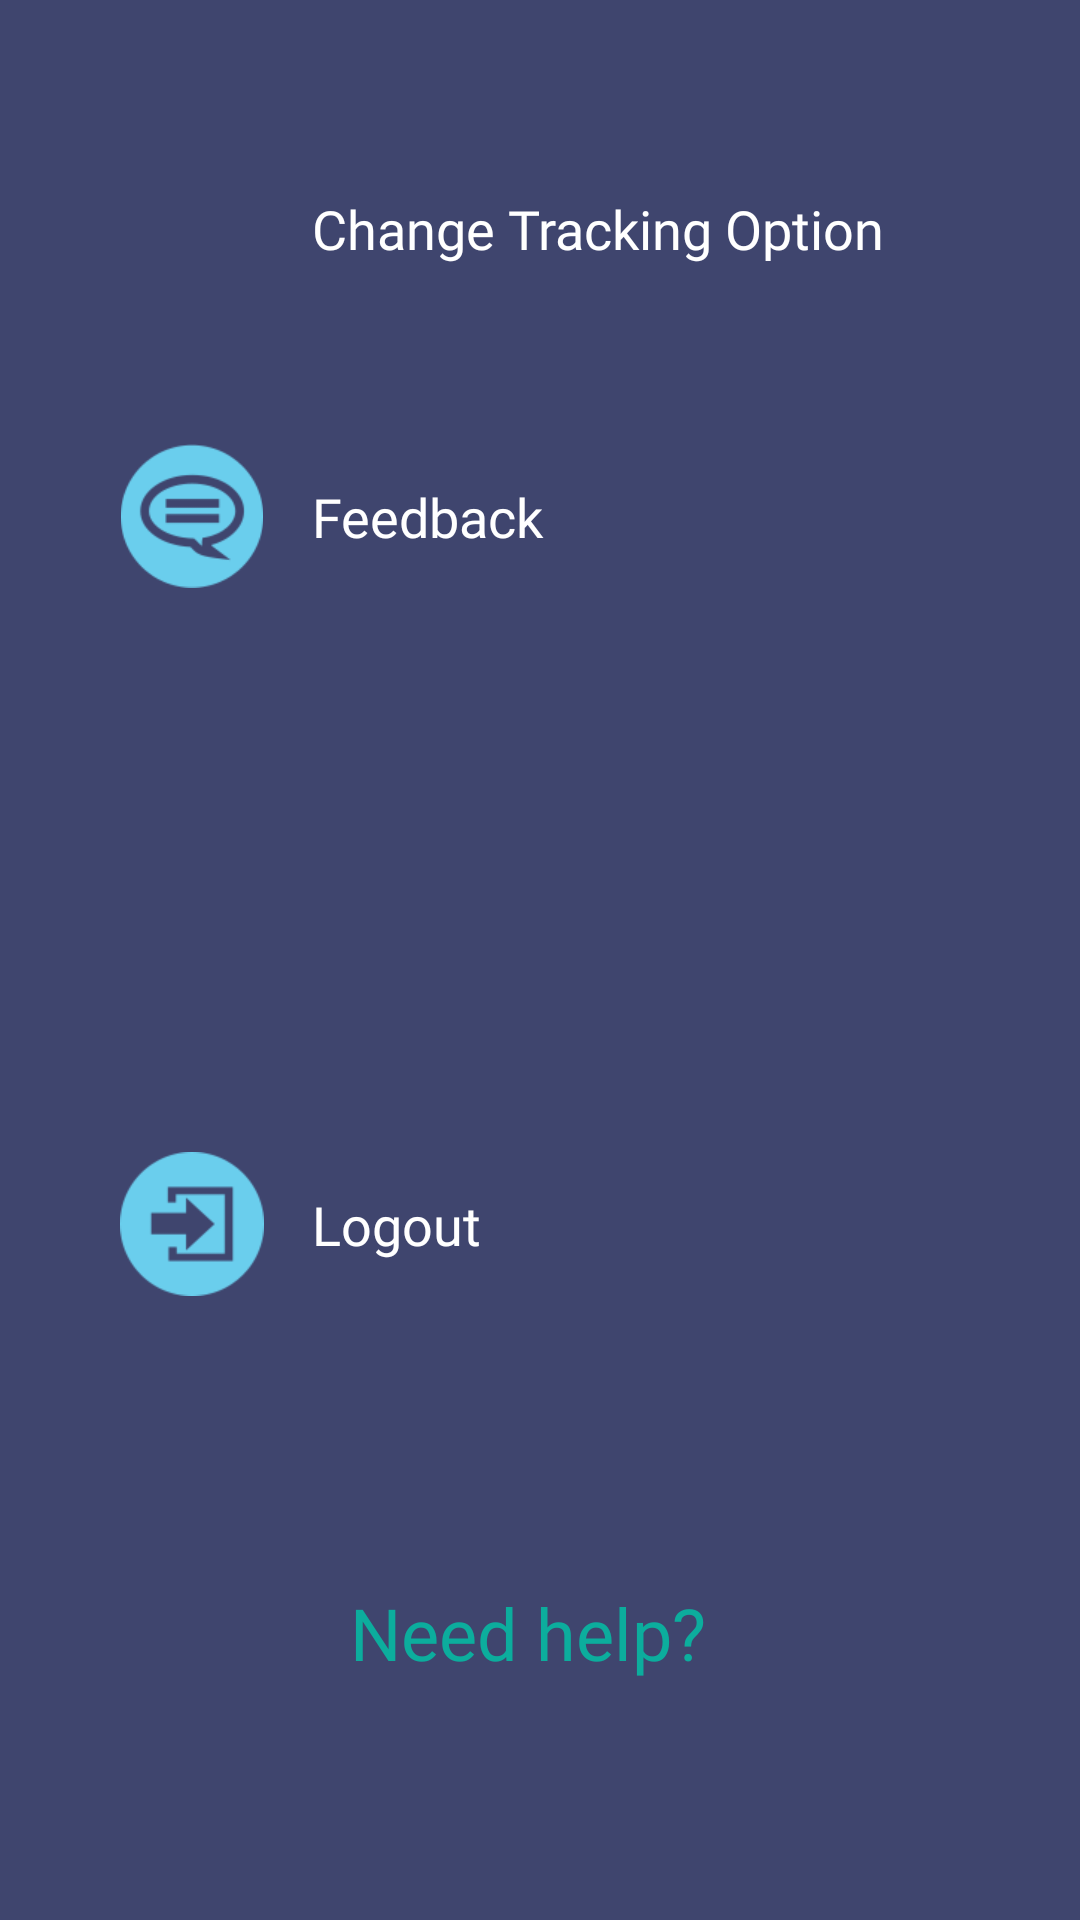

Icon click points for this 1080 x 1920 phone screenshot, format (x=x, y=y):
exit: (x=192, y=1224)
